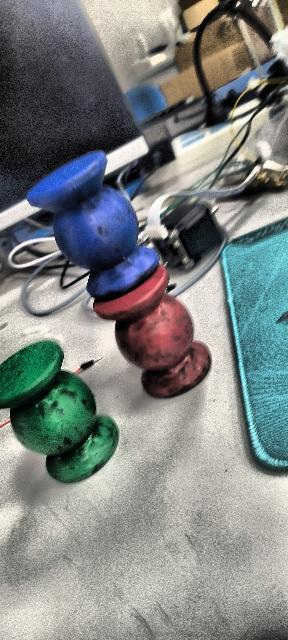blue: (26, 150, 160, 300)
green: (0, 341, 124, 482)
red: (81, 271, 210, 406)
